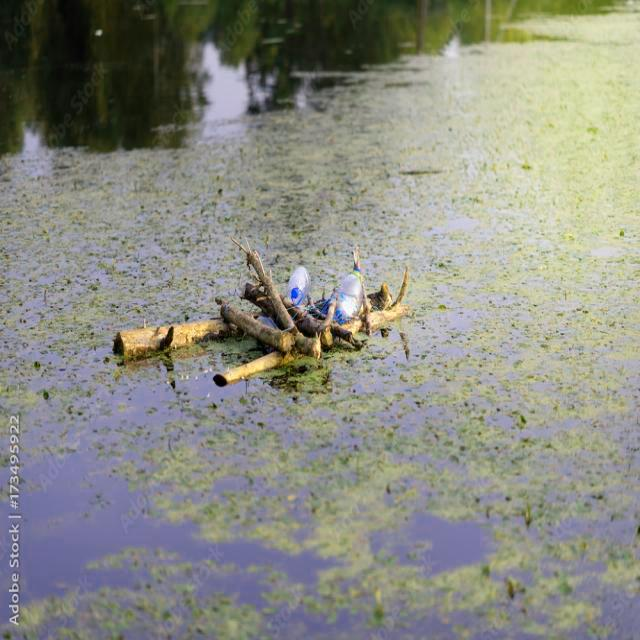Plastic: (334, 270, 374, 327), (288, 264, 315, 306)
